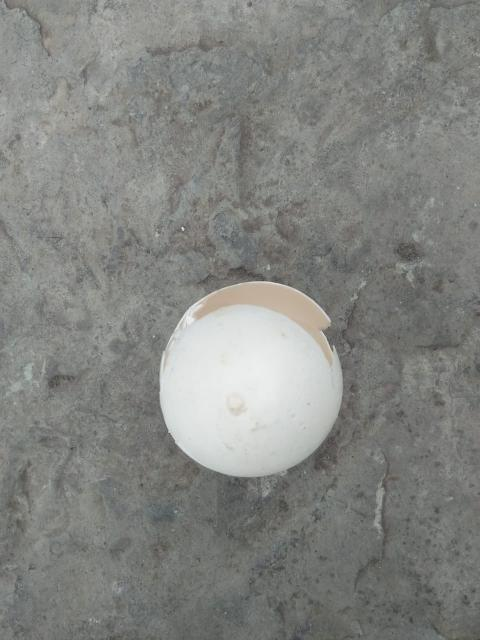Roto: (158, 280, 344, 478)
